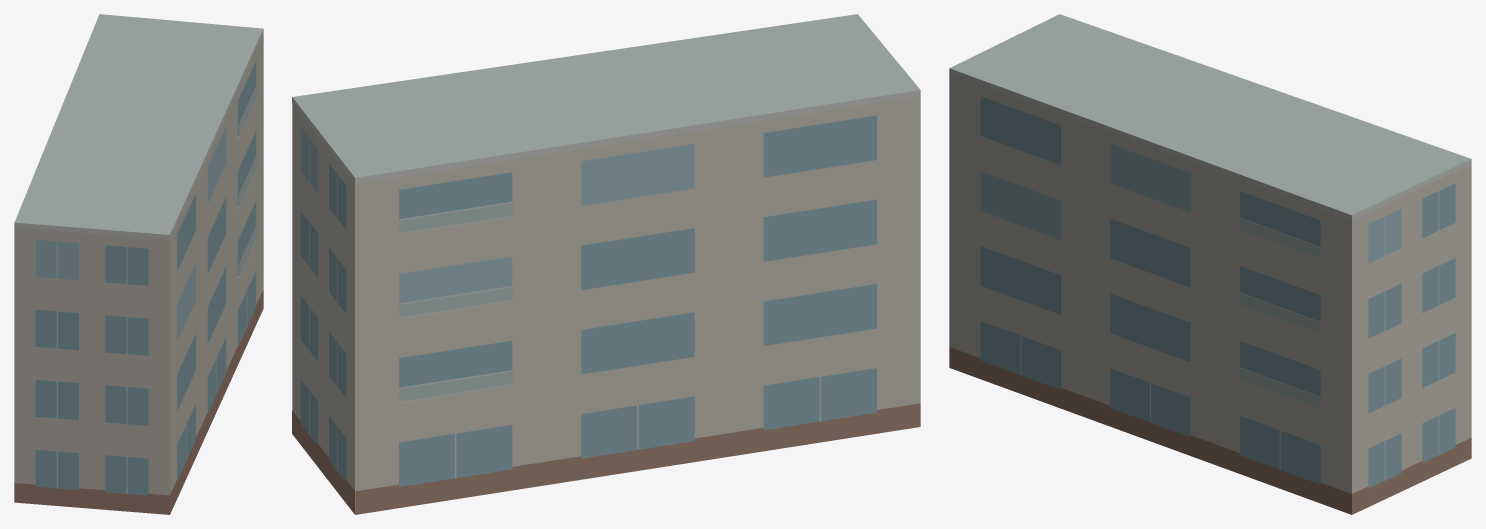
The model's file is survey-upis-32992327.glb.
3 renders of one model, left to right at view 1: azimuth 30°, elevation 25°; view 2: azimuth 150°, elevation 25°; view 3: azimuth 270°, elevation 25°, orthographic. The views are drawn at different scales.
Parts seen in each view (by area): view 1: survey-upis-32992327.tmp; view 2: survey-upis-32992327.tmp; view 3: survey-upis-32992327.tmp.
Boxes of the visible parts, x1,y1,x2,y2 form: survey-upis-32992327.tmp: (14, 14, 263, 514); survey-upis-32992327.tmp: (292, 14, 920, 514); survey-upis-32992327.tmp: (949, 14, 1471, 514).
Size of the model in its own units: 19.04 by 13.2 by 20.86.
